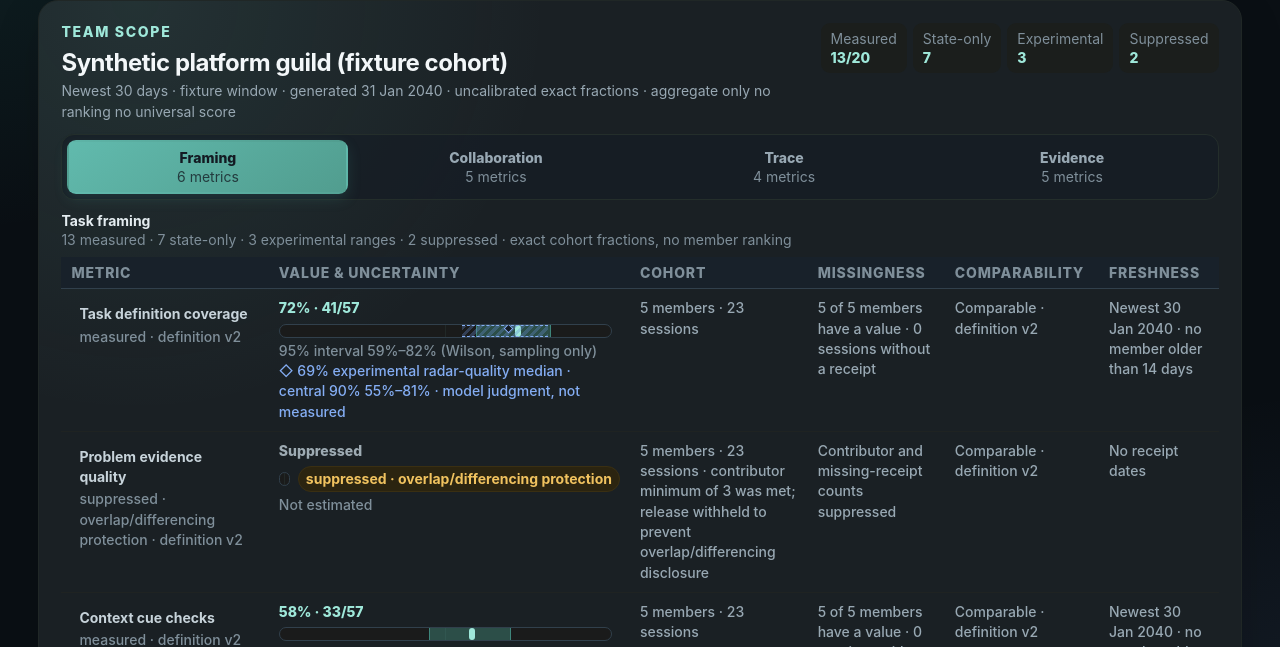
Test case: TeamAnalyticsPage › opens the two-sentence explainer from keyboard focus and switches lenses
The image size is (1280, 647).
(page scrolled)
Focus the button "Task definition coverage measured · definition v2" at (165, 326), box [71,298,259,353]
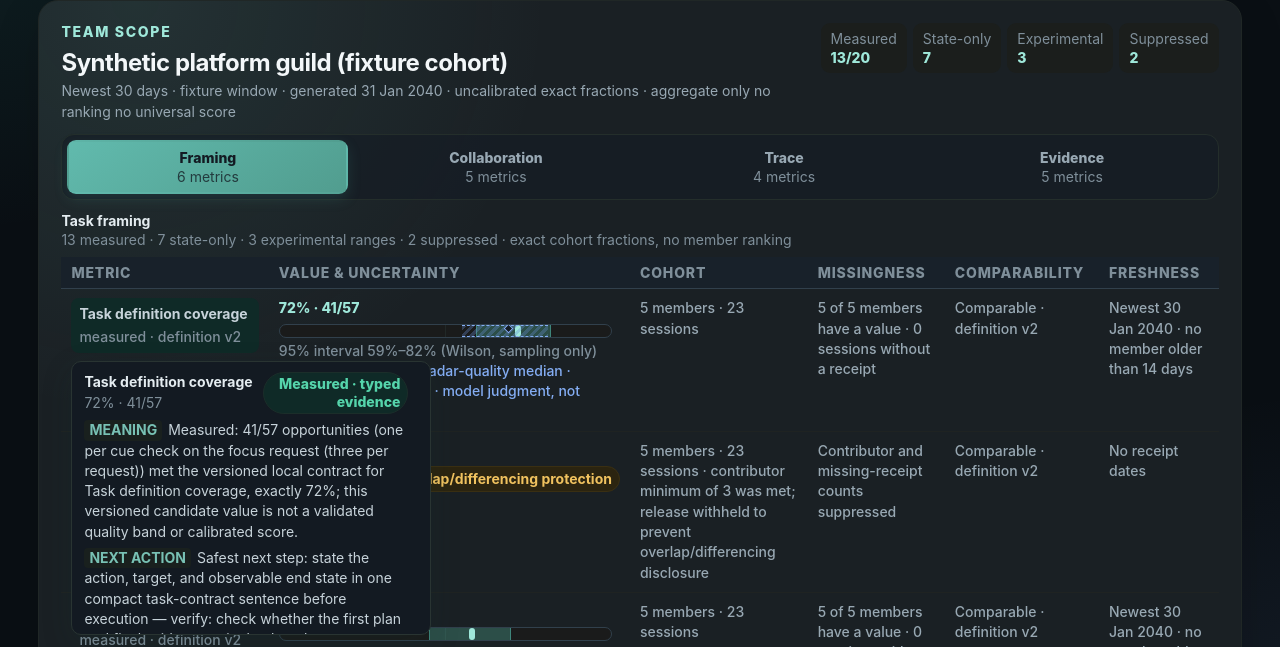
expect the element that starts with "Task definition coverage" is shown: met, box [71,361,431,635]
expect the element that starts with "Task definition coverage" shows "Meaning": met, box [89,421,157,438]
expect the element that starts with "Task definition coverage" shows "Next action": met, box [89,549,186,566]
Press Escape
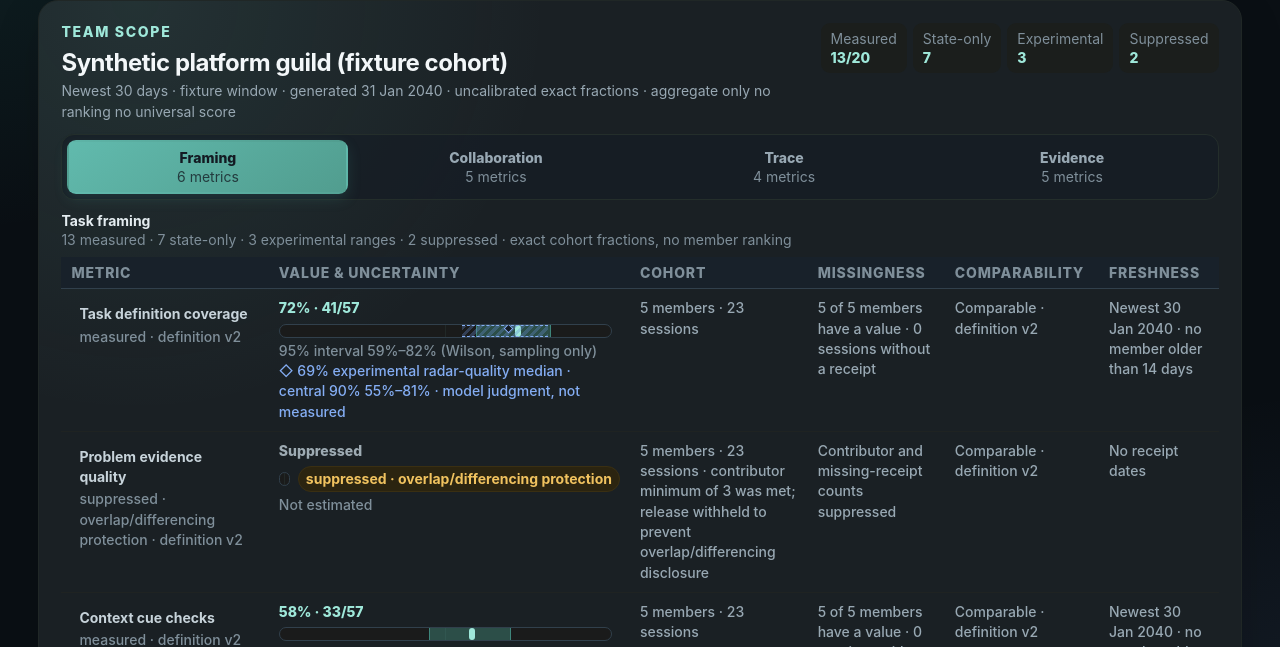
Click the button with aria-label "Evidence lane lens" at (1072, 167), box [932,140,1213,194]
(page scrolled)
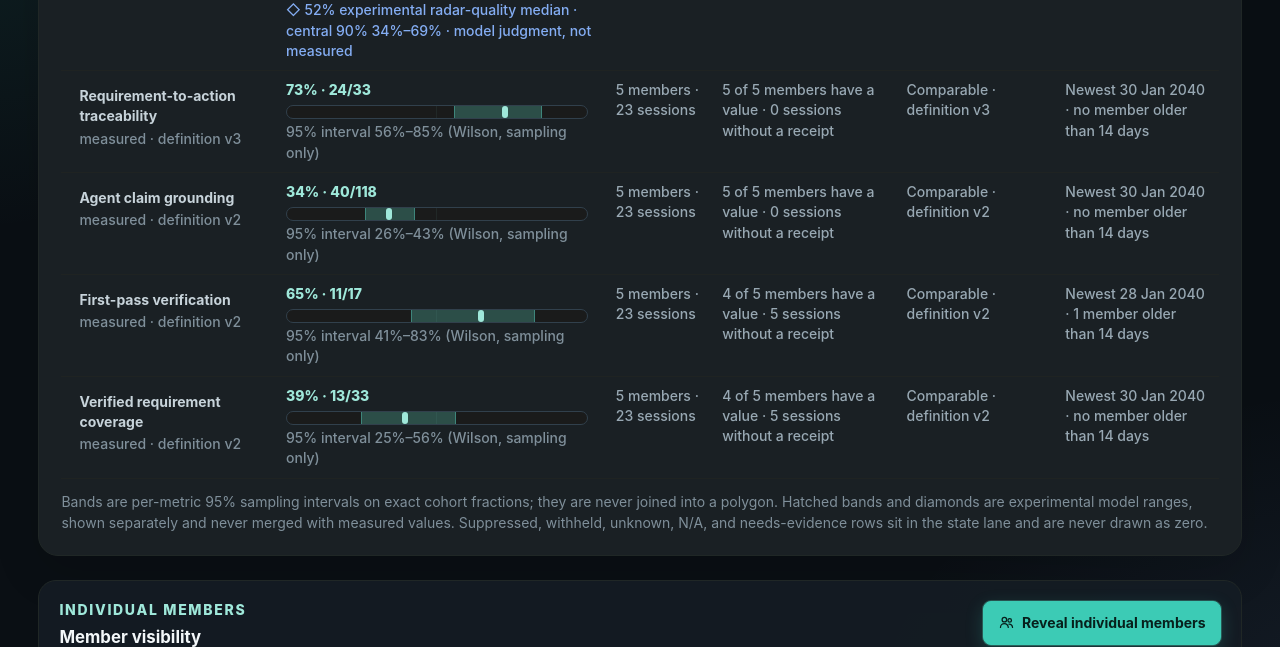
expect the row that starts with "First-pass verification" is shown: met, box [61,275,1219,377]
